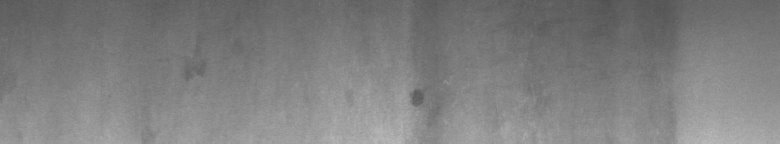fi: (404, 85, 427, 116)
